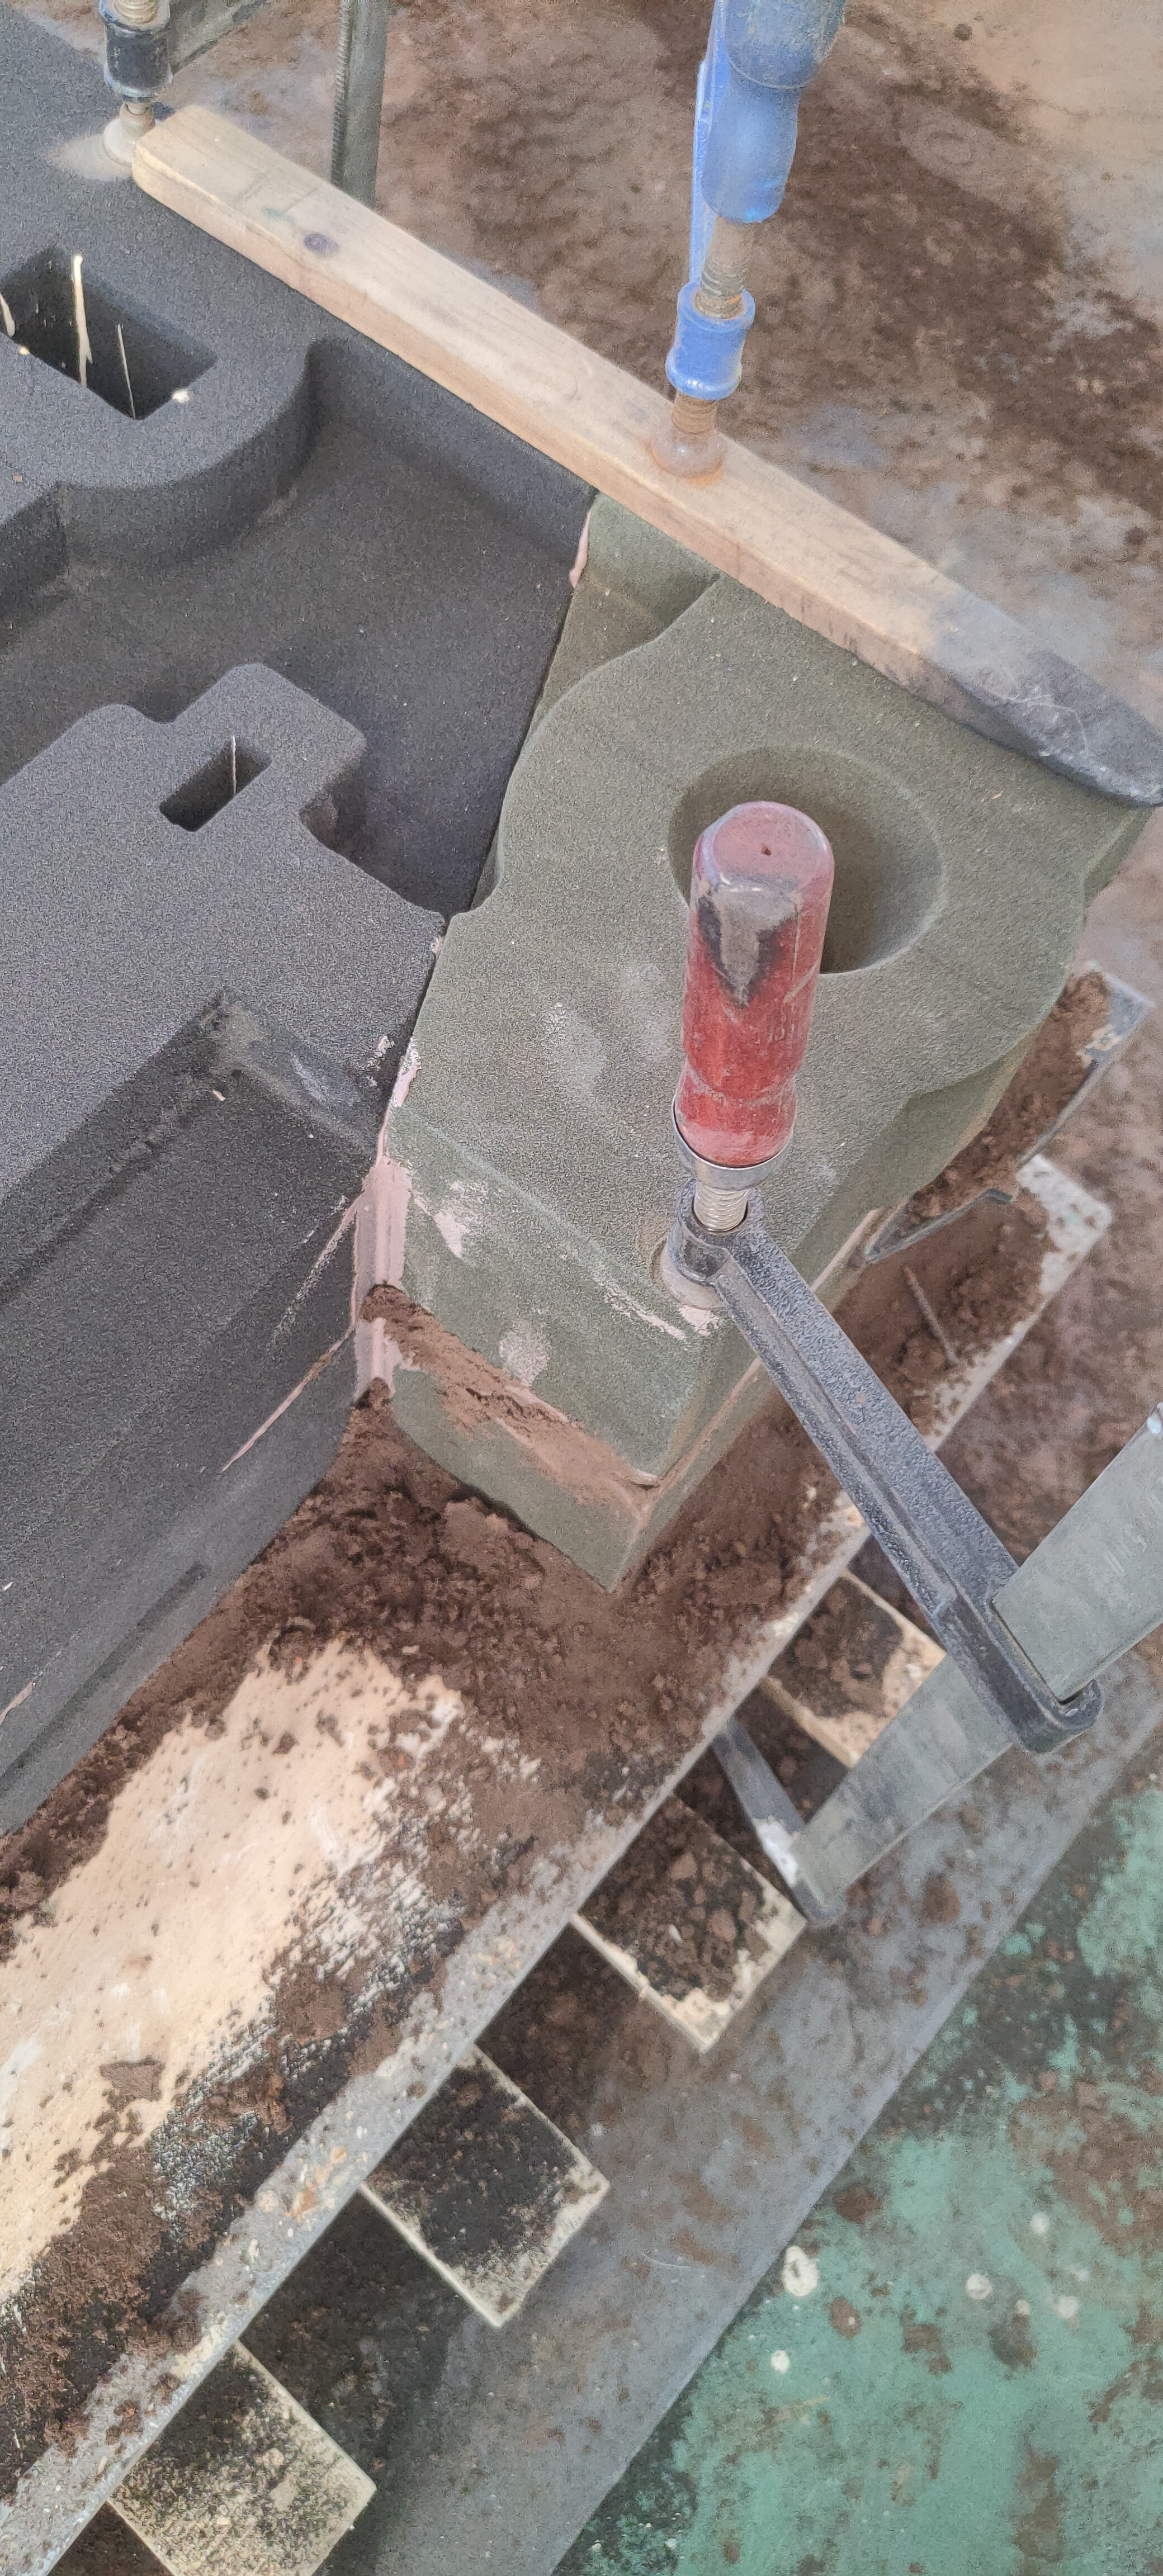pouring hole: (667, 747, 943, 978)
